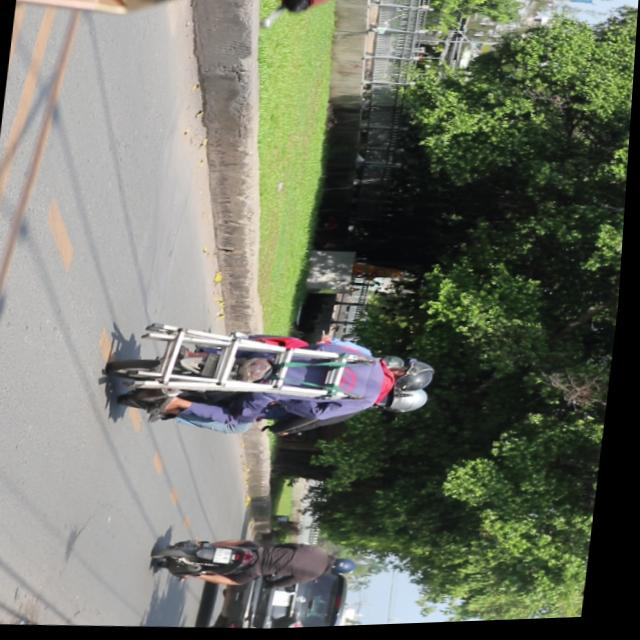helmet: (393, 357, 444, 394), (387, 388, 437, 416), (335, 556, 367, 578)
licenseplate: (100, 310, 452, 452), (159, 528, 372, 597)
